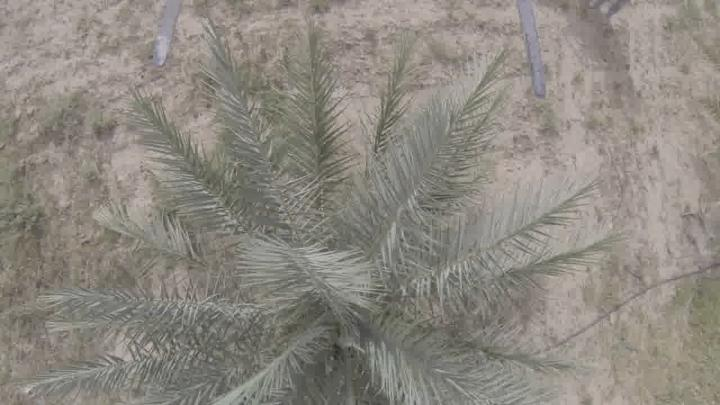Date-Palm-Crown: (188, 125, 478, 405)
